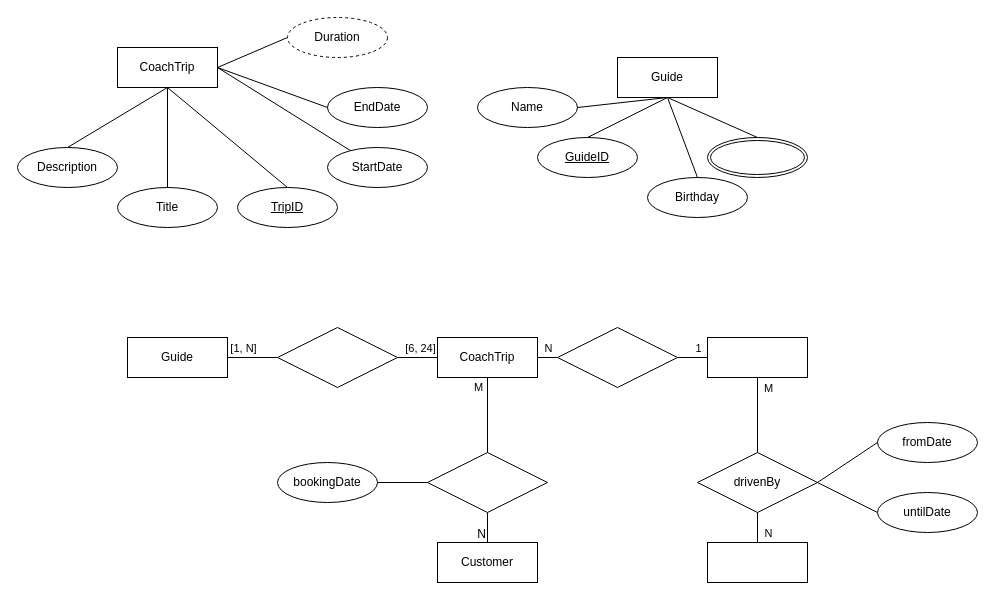
This 995x600 diagram has some shape labels left out. The shapes that lost their labels are listed below. From the top down, each one's centre as x and y in pixels, then its label:
At (x=757, y=157): "Languages".
At (x=337, y=357): "guidedBy".
At (x=617, y=357): "performedUsing".
At (x=757, y=357): "Coach".
At (x=487, y=482): "books".
At (x=757, y=562): "Driver".
